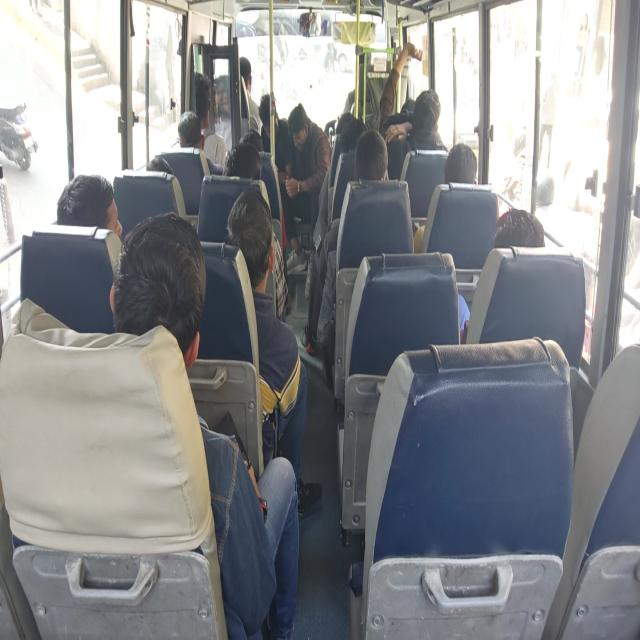person: (133, 225, 200, 331), (58, 171, 112, 233), (403, 94, 456, 151), (506, 205, 550, 258), (233, 196, 267, 263), (223, 59, 264, 104), (184, 65, 217, 118), (226, 141, 264, 183), (168, 114, 206, 152), (133, 146, 170, 185), (353, 138, 384, 184), (333, 106, 364, 152), (448, 149, 481, 192), (286, 99, 308, 145), (259, 95, 274, 125)
